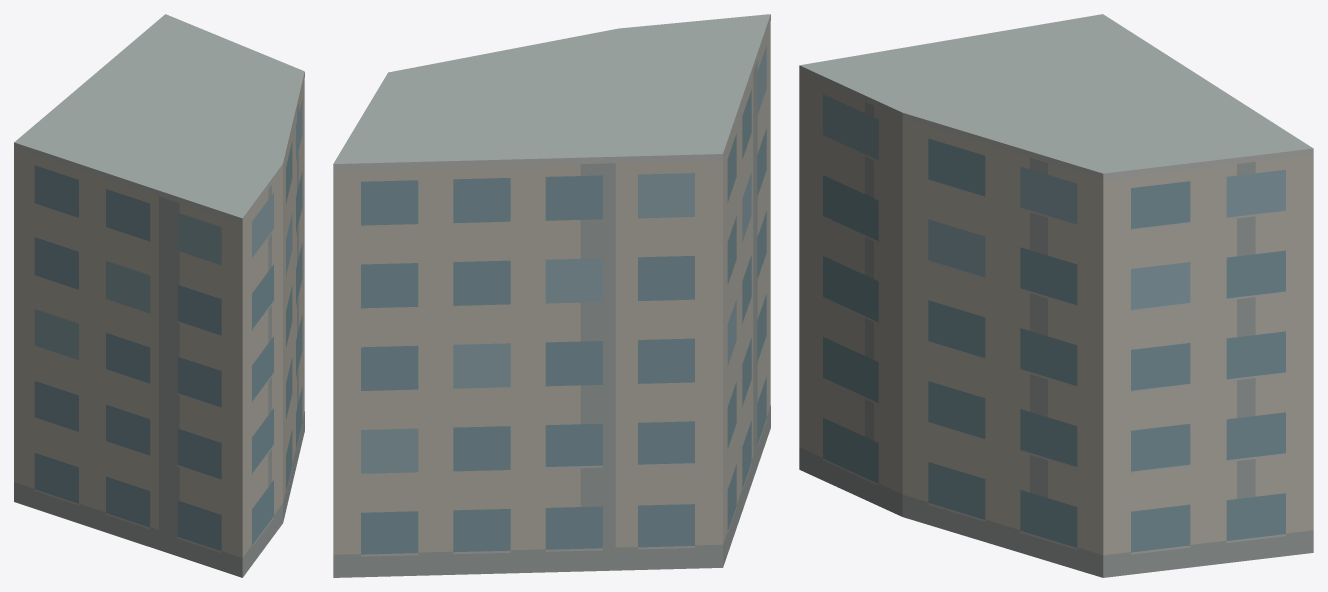
Rendered from survey-upis-33026995.glb.
3 views of the same model, side by side, from view 1: azimuth 30°, elevation 25°; view 2: azimuth 150°, elevation 25°; view 3: azimuth 270°, elevation 25° (orthographic). The views are drawn at different scales.
Parts seen in each view (by area): view 1: survey-upis-33026995.tmp; view 2: survey-upis-33026995.tmp; view 3: survey-upis-33026995.tmp.
Boxes of the visible parts, left/top/right/bottom form: survey-upis-33026995.tmp: left=14, top=14, right=304, bottom=577; survey-upis-33026995.tmp: left=333, top=14, right=770, bottom=577; survey-upis-33026995.tmp: left=799, top=14, right=1313, bottom=577.
Size of the model in its own units: 13.13 by 15.5 by 17.88.
